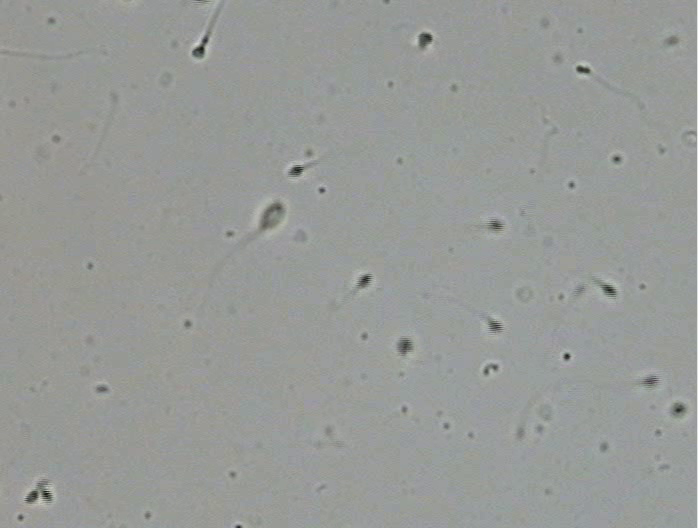S: (259, 202, 285, 231), (396, 336, 413, 356), (356, 273, 373, 288), (600, 283, 617, 298), (487, 218, 504, 233), (488, 318, 503, 334), (417, 32, 433, 47), (287, 164, 303, 178), (40, 488, 54, 504), (642, 375, 659, 388), (192, 44, 205, 59), (24, 490, 39, 503), (672, 403, 686, 416), (576, 64, 591, 74)
